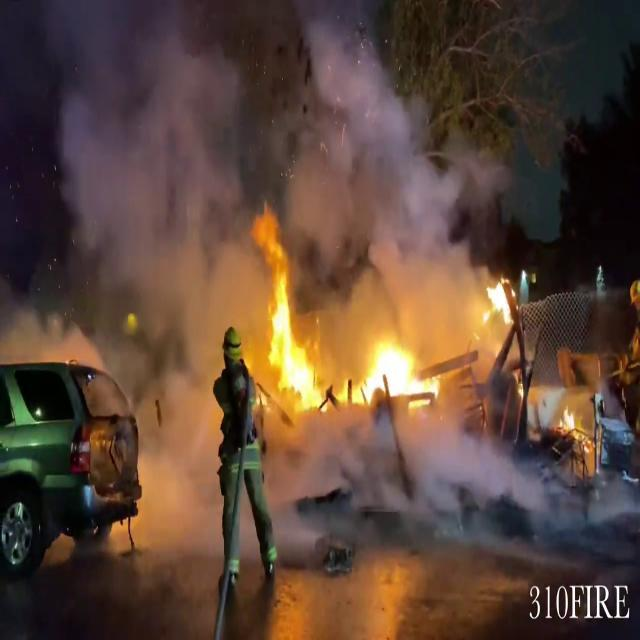Fire: (252, 212, 321, 414), (338, 330, 440, 414), (482, 270, 520, 330)
Smoke: (16, 0, 480, 321), (2, 1, 260, 578)
